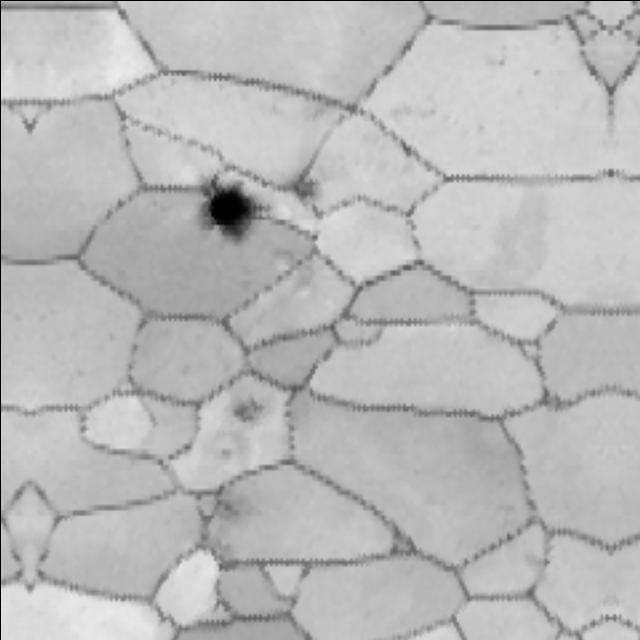good_void: (188, 162, 282, 256), (228, 394, 268, 434), (286, 171, 329, 203), (217, 492, 249, 523), (484, 49, 510, 69), (213, 441, 236, 463)
